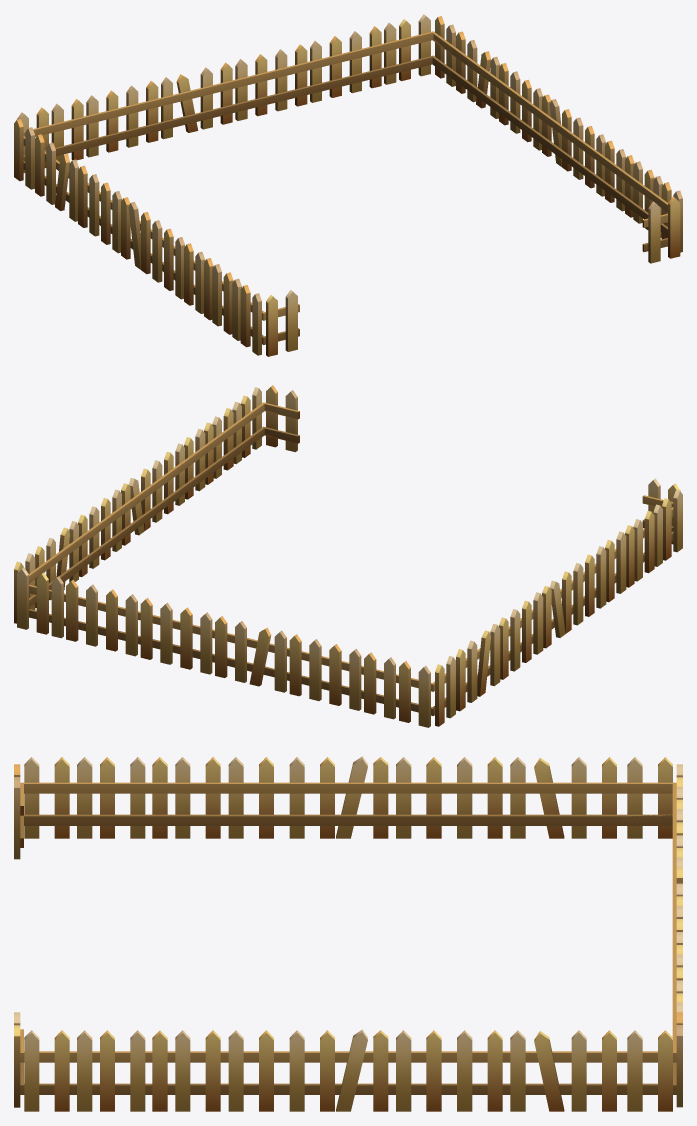
The model's file is Fence_01_Large.fbx.
The picture shows the model from 3 angles, top to bottom: view 1: azimuth 30°, elevation 25°; view 2: azimuth 150°, elevation 25°; view 3: azimuth 270°, elevation 25°; orthographic projection. The views are drawn at different scales.
Visible parts, largest first — view 1: Fence_01_Large; view 2: Fence_01_Large; view 3: Fence_01_Large.
Part boxes in pixels (box(x1,y1,x2,y2)): Fence_01_Large: box(14, 14, 682, 356); Fence_01_Large: box(14, 385, 682, 727); Fence_01_Large: box(14, 756, 682, 1111).
Size of the model in its own units: 754 by 102 by 773.
Materials: 1 (1 with a texture image).
